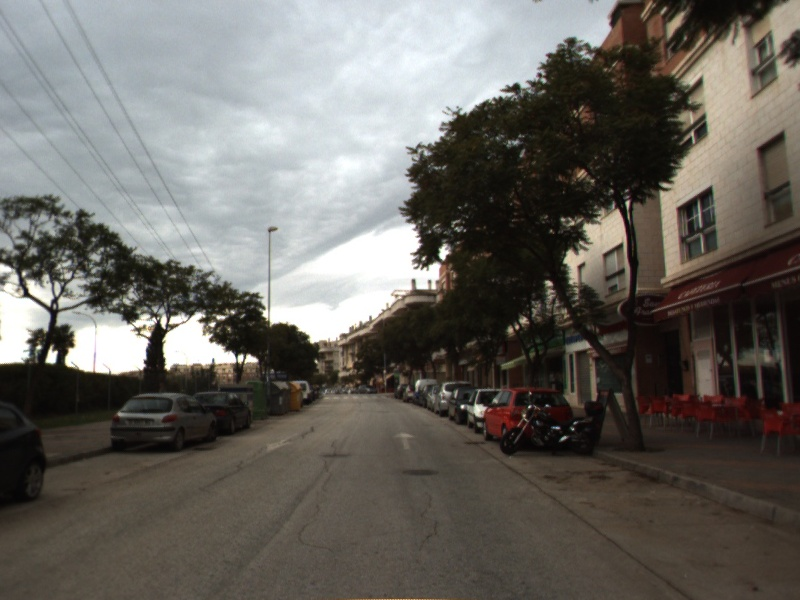STRAIGHT: (390, 429, 419, 451)
